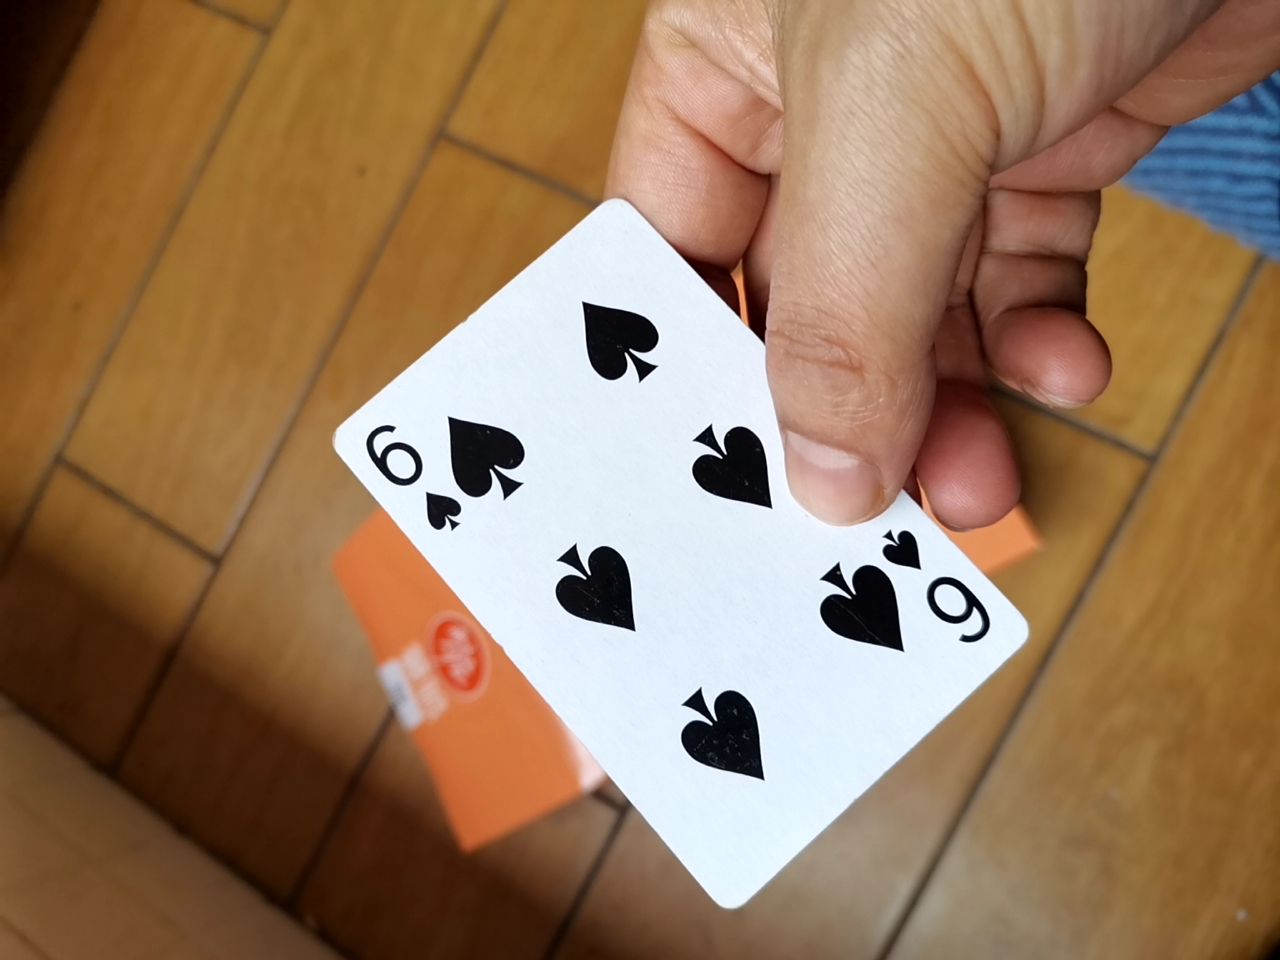ht 6: (315, 189, 1013, 920)
